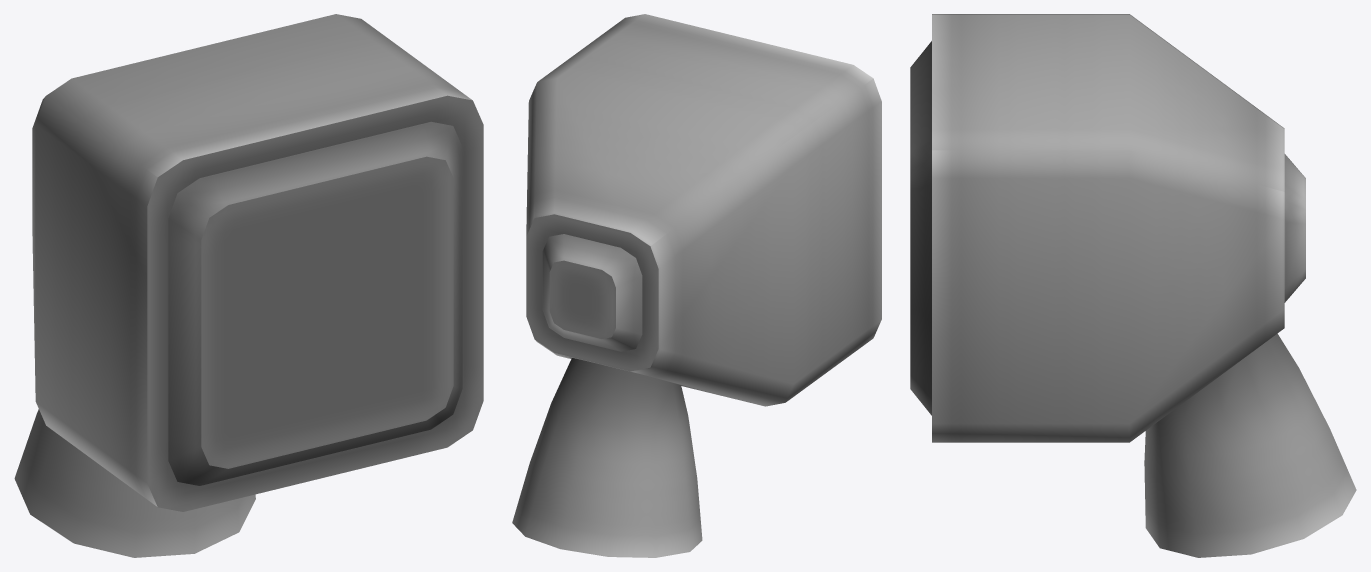
Rendered from Tantares_RCS_4.obj.
3 views of the same model, side by side, from view 1: azimuth 30°, elevation 25°; view 2: azimuth 150°, elevation 25°; view 3: azimuth 270°, elevation 25° (orthographic). The views are drawn at different scales.
Visible parts, largest first — view 1: Tantares_RCS_4; view 2: Tantares_RCS_4; view 3: Tantares_RCS_4.
Boxes of the visible parts, bbox=[...] form: Tantares_RCS_4: bbox=[14, 14, 483, 557]; Tantares_RCS_4: bbox=[512, 14, 881, 557]; Tantares_RCS_4: bbox=[910, 14, 1356, 557].
Bounding box in the file's own units: 0.1 × 0.1461 × 0.1297.
